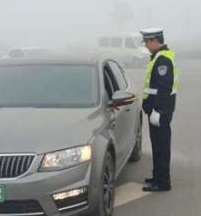person: (134, 25, 179, 194)
